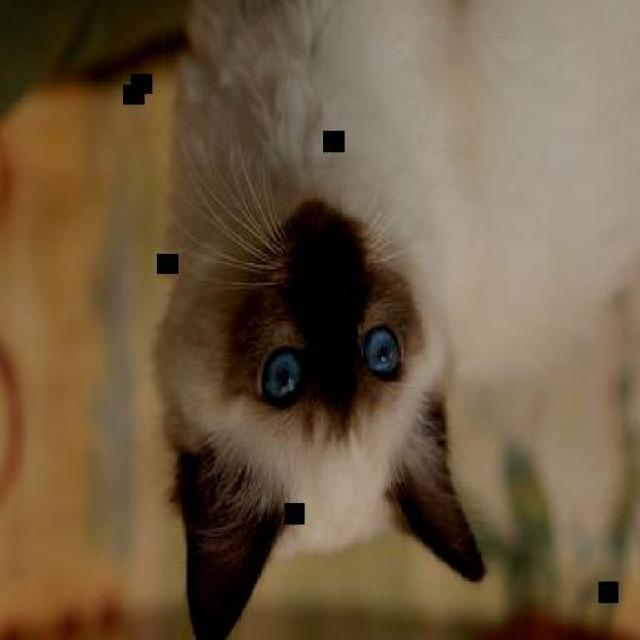cat: (156, 2, 638, 640)
